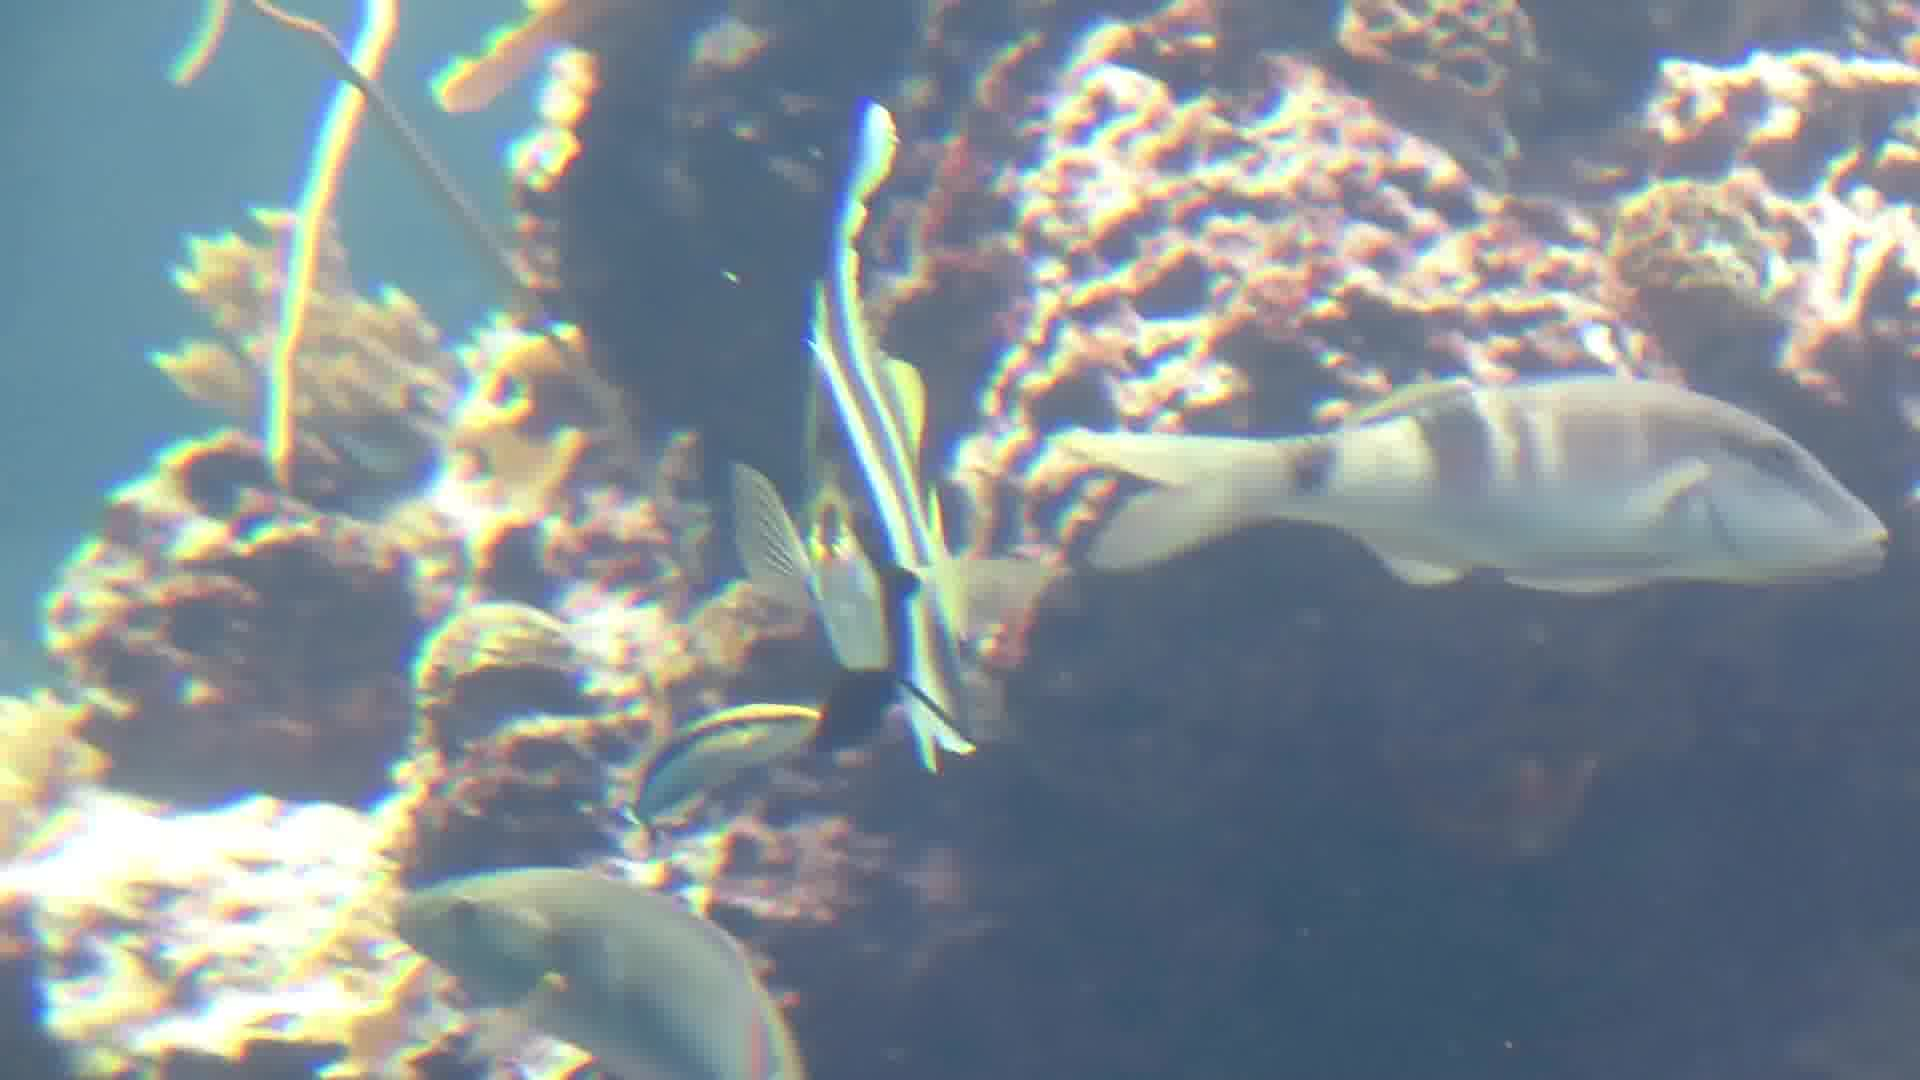Heniochus chrysostomus: (659, 121, 1071, 760)
